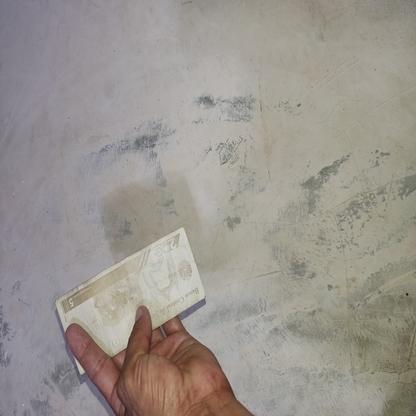five-back-vef: (56, 226, 206, 376)
